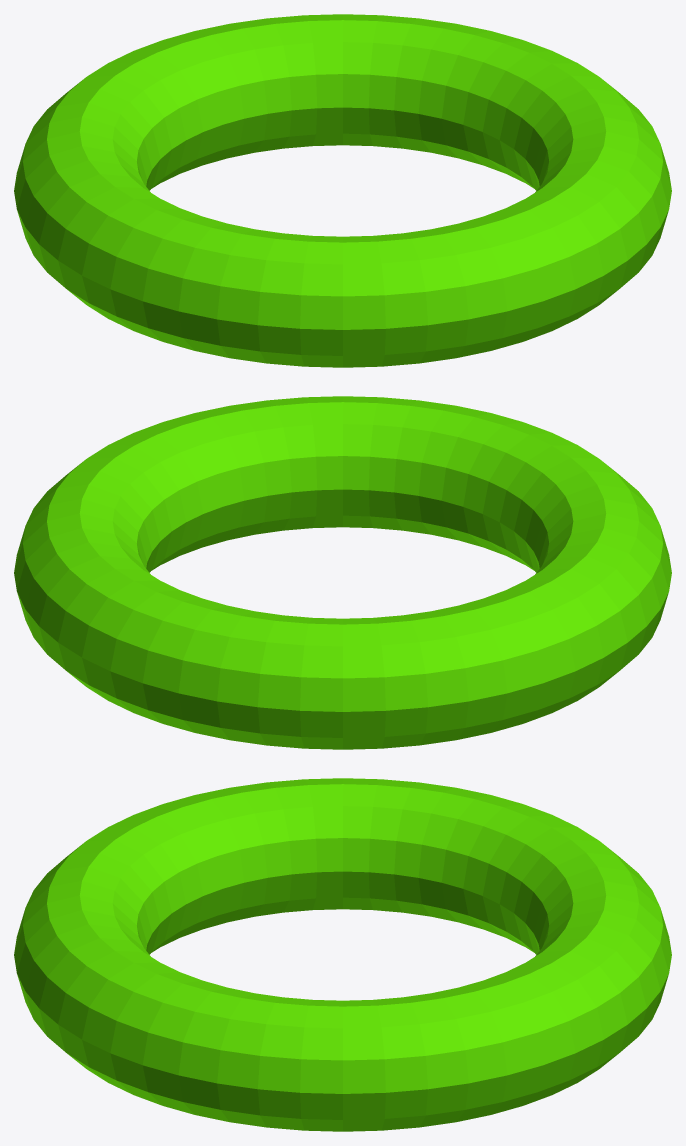
Rendered from davidCubeA2.gltf.
The picture shows the model from 3 angles, top to bottom: view 1: azimuth 30°, elevation 25°; view 2: azimuth 150°, elevation 25°; view 3: azimuth 270°, elevation 25°; orthographic projection.
Visible parts, largest first — view 1: davidCubeA2; view 2: davidCubeA2; view 3: davidCubeA2.
Part boxes in pixels (x1,y1,x2,y2): davidCubeA2: [14, 14, 671, 367]; davidCubeA2: [14, 396, 671, 749]; davidCubeA2: [14, 778, 671, 1131].
Size of the model in its own units: 1.23 by 0.2455 by 1.23.
